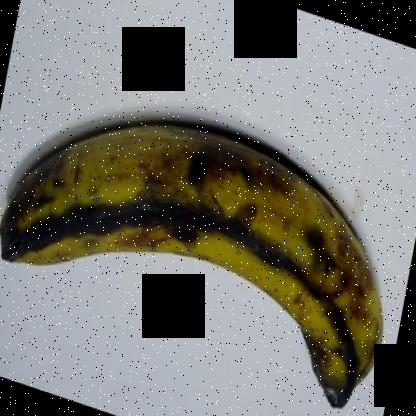overripe: (1, 115, 386, 411)
